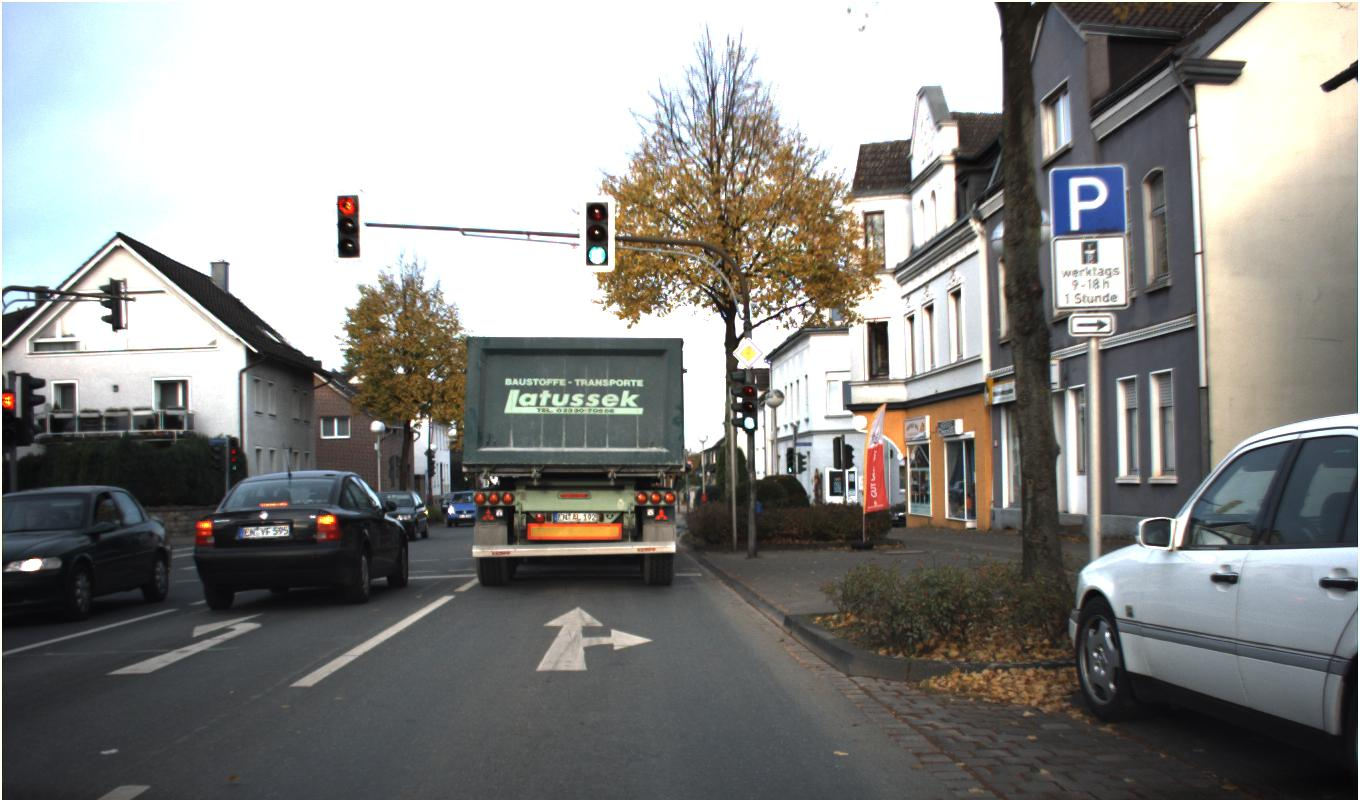sign: (731, 336, 764, 370)
